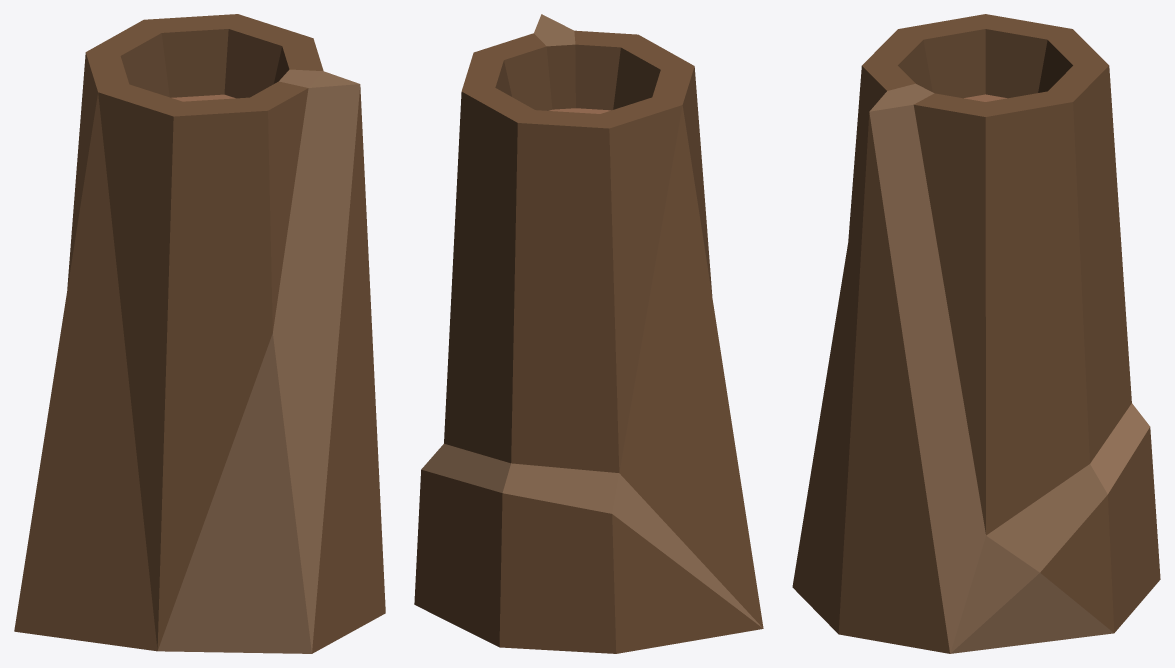
The model's file is mesh_stump_pine_01.fbx.
3 renders of one model, left to right at view 1: azimuth 30°, elevation 25°; view 2: azimuth 150°, elevation 25°; view 3: azimuth 270°, elevation 25°, orthographic. The views are drawn at different scales.
Parts seen in each view (by area): view 1: mesh_stump_pine_01; view 2: mesh_stump_pine_01; view 3: mesh_stump_pine_01.
Boxes of the visible parts, left/top/right/bottom form: mesh_stump_pine_01: left=14, top=14, right=385, bottom=653; mesh_stump_pine_01: left=414, top=14, right=763, bottom=653; mesh_stump_pine_01: left=792, top=14, right=1160, bottom=653.
Bounding box in the file's own units: 1.22 × 1.79 × 1.16.
